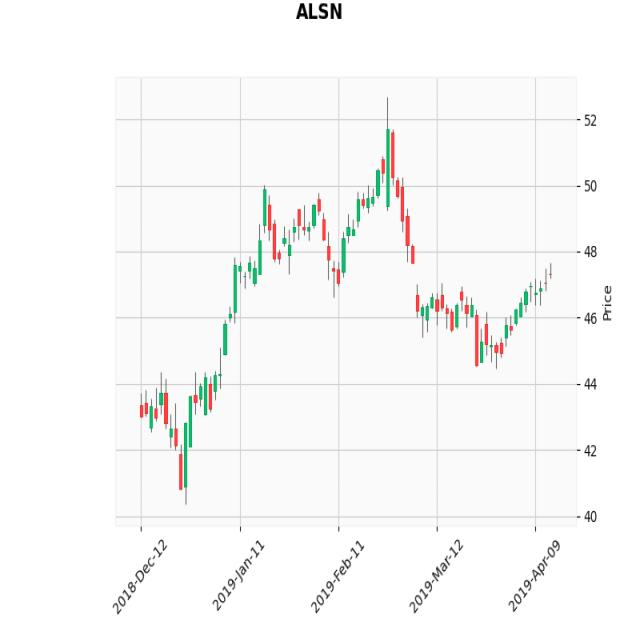Double-Top: (245, 119, 423, 345)
